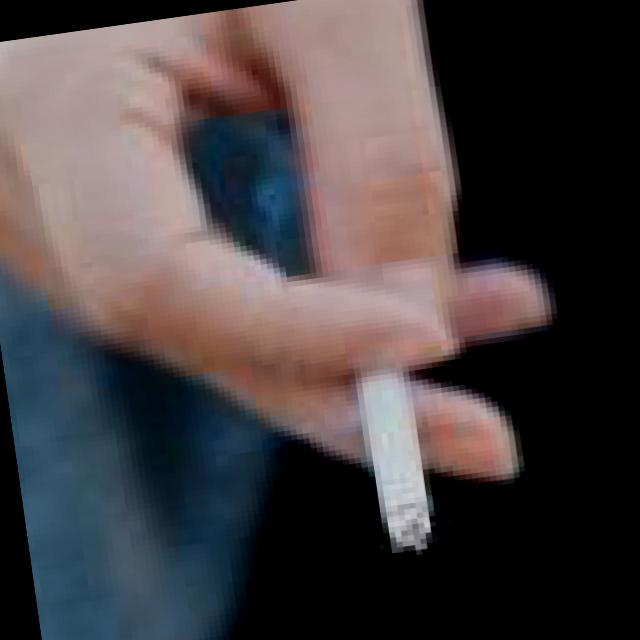cigarette: (316, 246, 459, 602)
